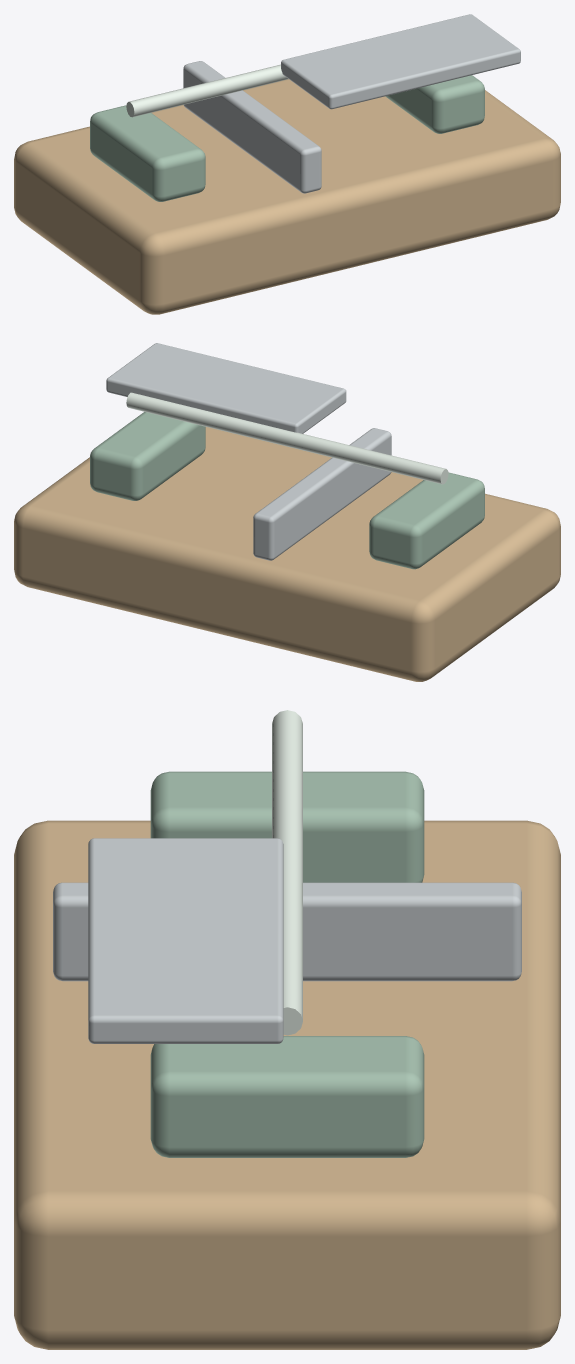
File: hearing-aid-and-audiology-clinic-tubing-cutting-jig-a0250017__31755.glb
3 renders of one model, top to bottom at view 1: azimuth 30°, elevation 25°; view 2: azimuth 150°, elevation 25°; view 3: azimuth 270°, elevation 25°, orthographic. The views are drawn at different scales.
Parts seen in each view (by area): view 1: tubing-cutting-jig; view 2: tubing-cutting-jig; view 3: tubing-cutting-jig.
Part boxes in pixels (x1,y1,x2,y2): tubing-cutting-jig: [14, 14, 560, 314]; tubing-cutting-jig: [14, 343, 560, 681]; tubing-cutting-jig: [14, 710, 560, 1349].
Bounding box in the file's own units: 0.12 × 0.045 × 0.07.
